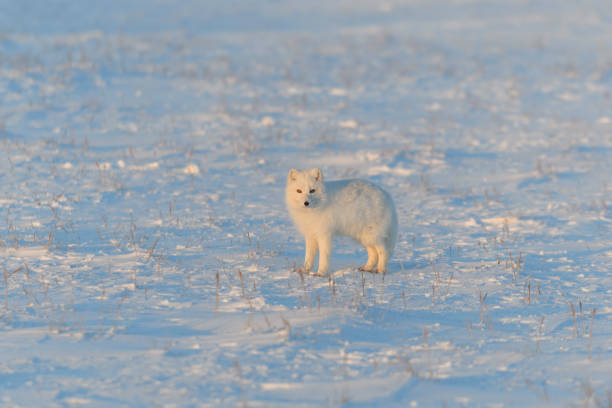arcticfox: (289, 180, 326, 214)
